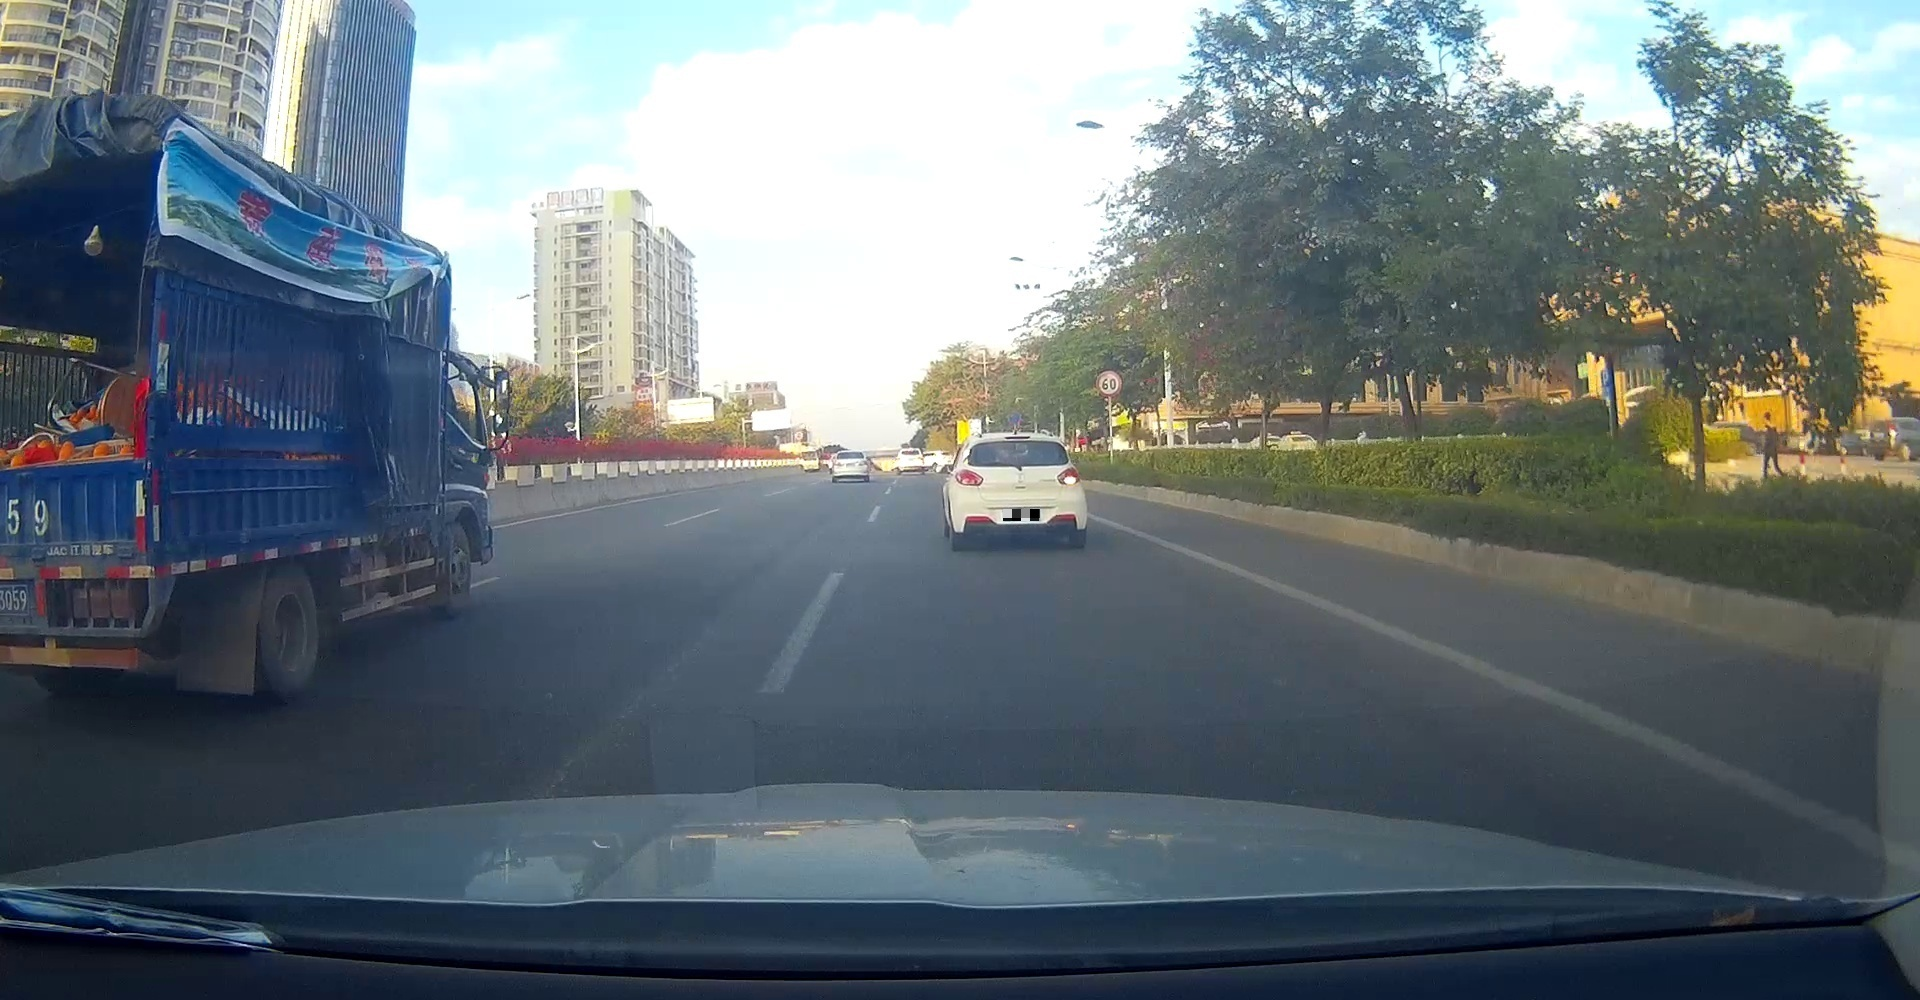L_light: (955, 468, 984, 486)
R_light: (1057, 467, 1079, 485)
T_light: (1010, 442, 1030, 445)
day-right: (952, 435, 1087, 548)
plate_1: (1003, 509, 1040, 522)
